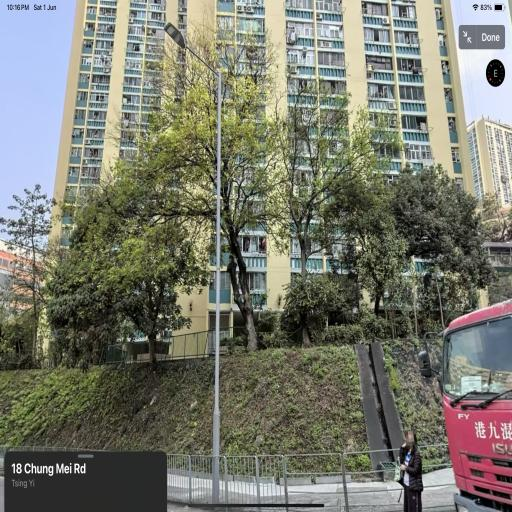Trees: (155, 56, 274, 370), (56, 175, 188, 373), (281, 69, 358, 353), (367, 188, 482, 322)
